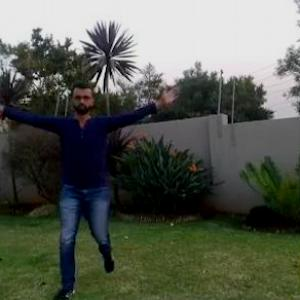takeoff: (1, 91, 181, 286)
